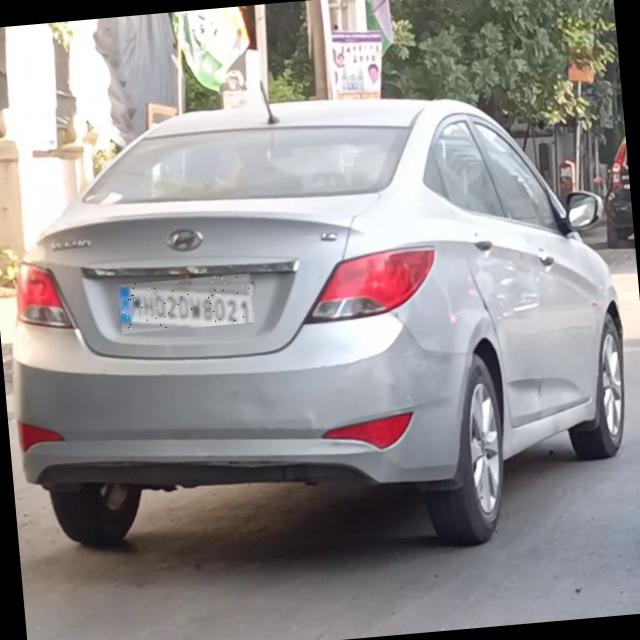Plate: (119, 274, 257, 334)
